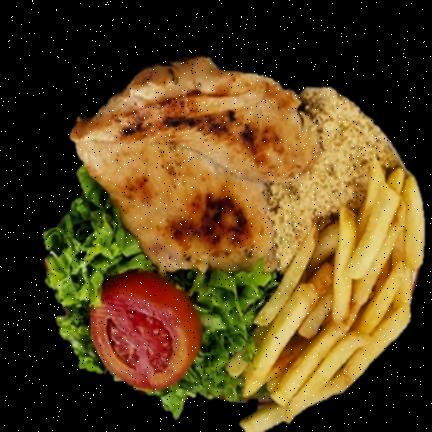chicken: (71, 58, 318, 272)
potato: (240, 165, 424, 432)
salad: (43, 167, 156, 374), (146, 262, 278, 419)
tomato: (90, 271, 202, 391)
